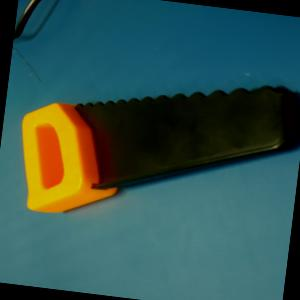serrote: (7, 54, 300, 244)
